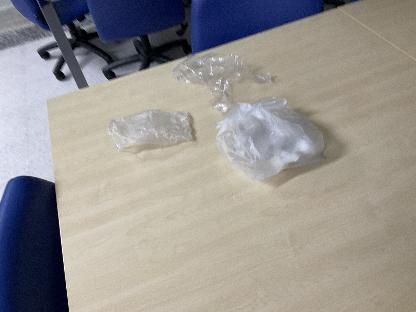Others: (210, 94, 332, 180), (168, 45, 280, 110), (102, 101, 192, 156)
